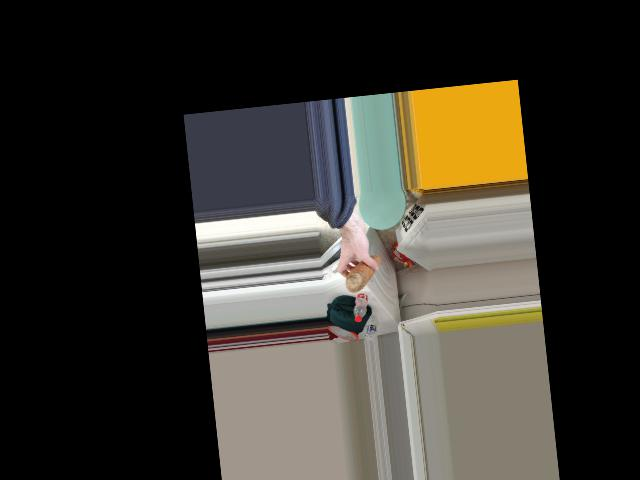sweet_potato: (339, 254, 387, 292)
